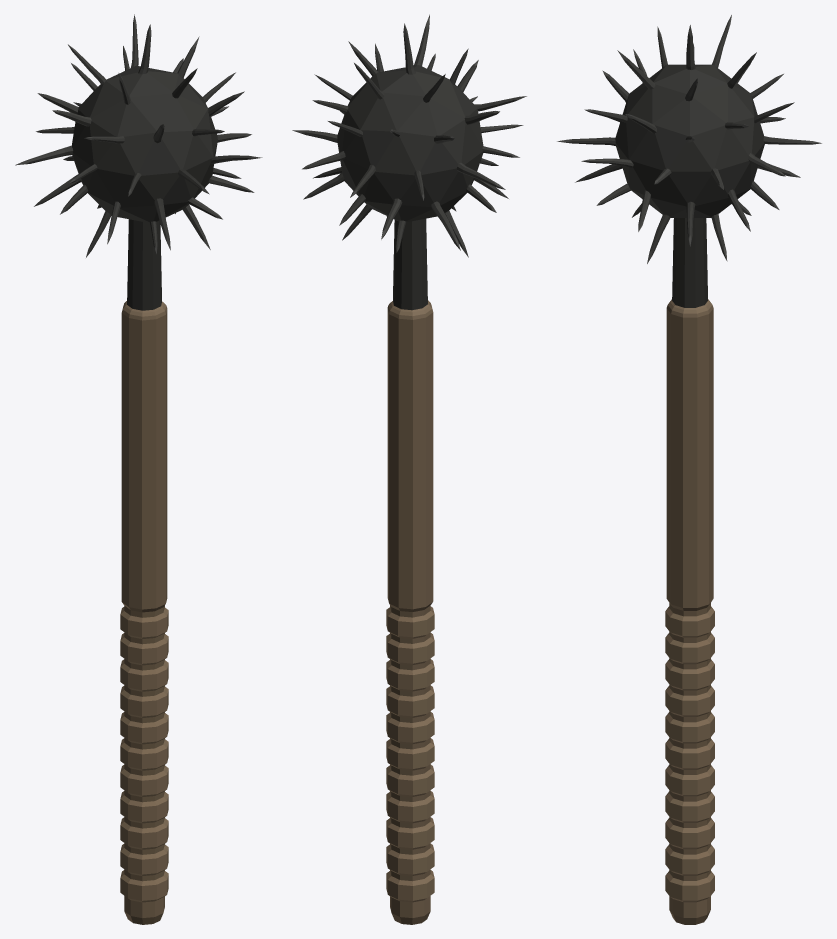
Rendered from bluntLightMorningStar.glb.
3 views of the same model, side by side, from view 1: azimuth 30°, elevation 25°; view 2: azimuth 150°, elevation 25°; view 3: azimuth 270°, elevation 25° (orthographic).
Parts seen in each view (by area): view 1: bluntLightMorningStar; view 2: bluntLightMorningStar; view 3: bluntLightMorningStar.
Part boxes in pixels (box(x1,y1,x2,y2)): bluntLightMorningStar: box(15, 14, 262, 924); bluntLightMorningStar: box(292, 14, 526, 924); bluntLightMorningStar: box(557, 15, 821, 924).
Size of the model in its own units: 0.2118 by 0.8432 by 0.2264.
